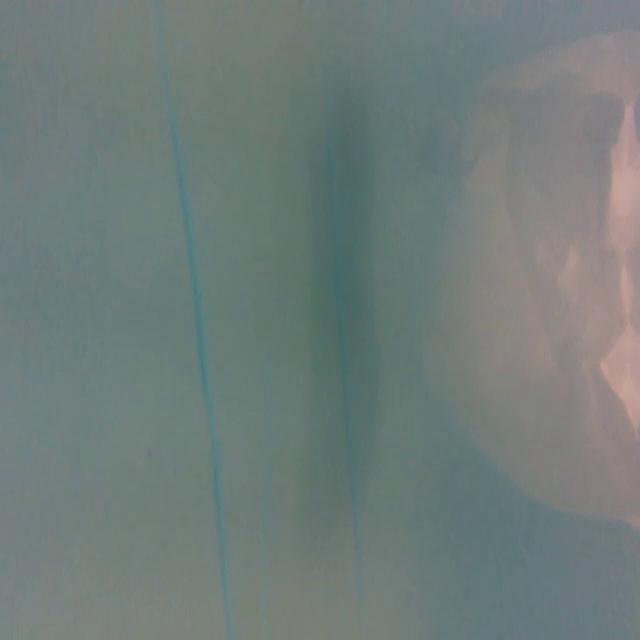plastic bags: (442, 16, 640, 544)
